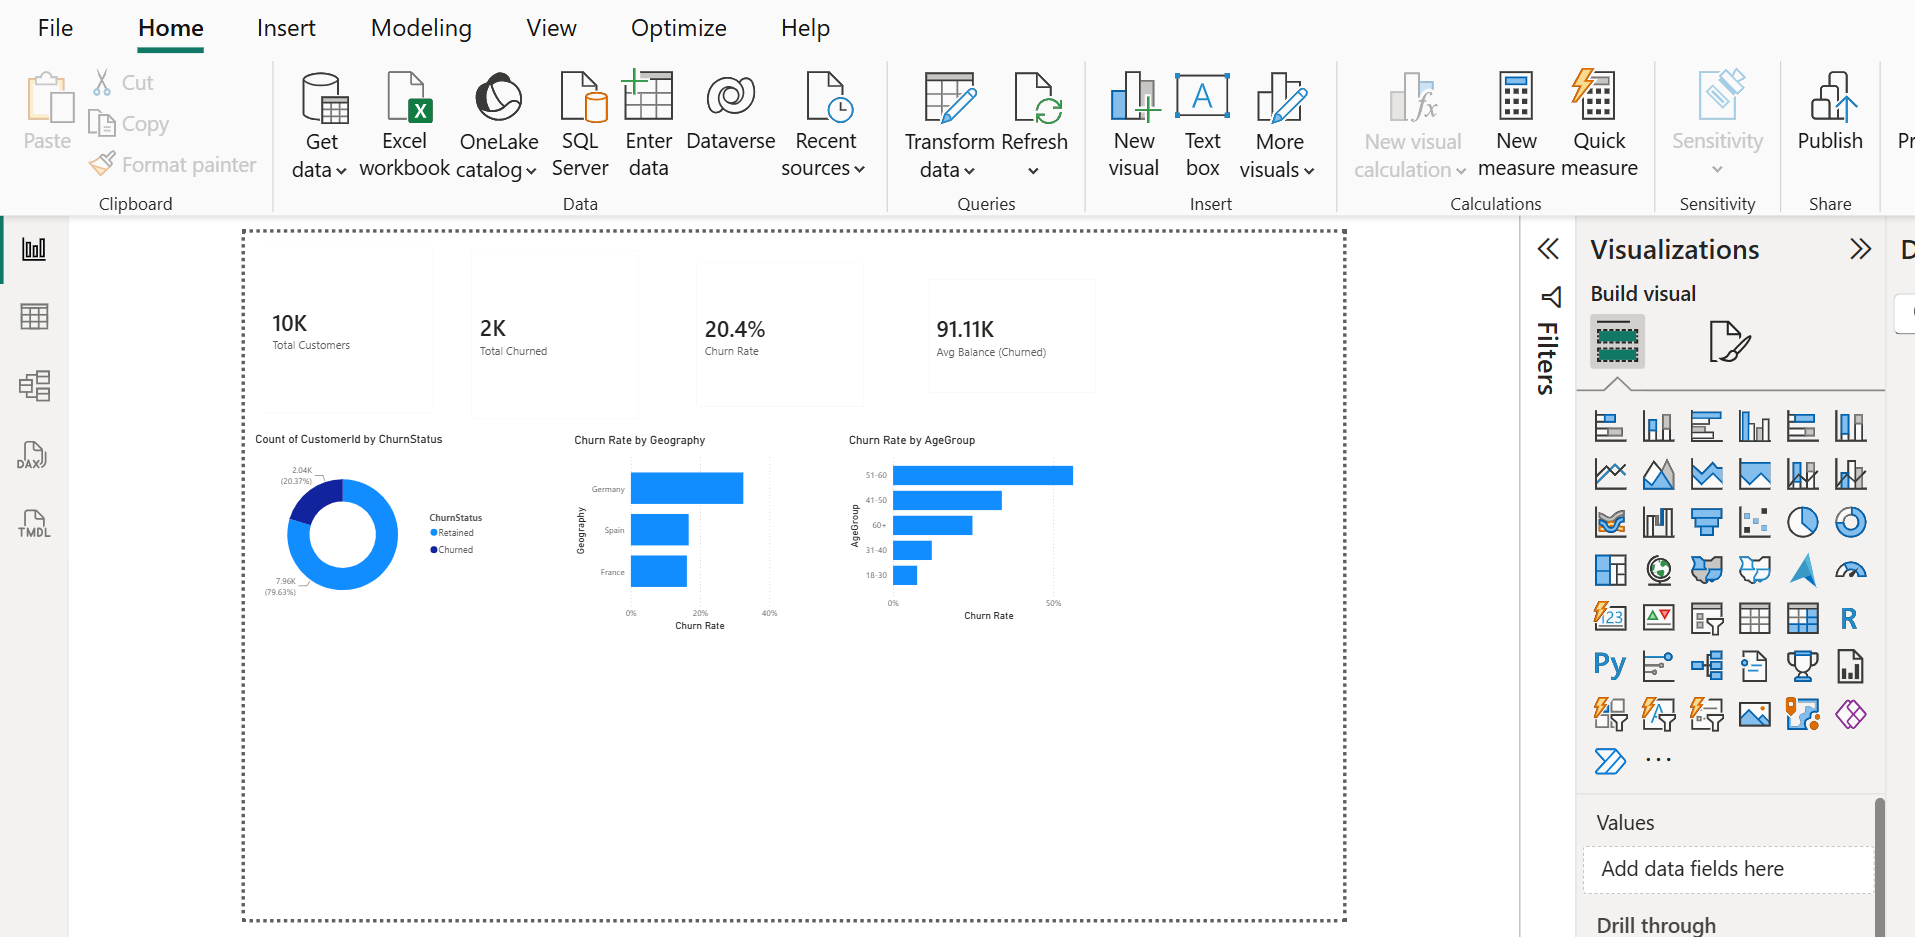

Layout of this report page (visuals, bound fields, positions):
{"tool":"powerbi","page":{"name":"Executive Overview","canvas":[1280,720],"ordinal":0},"visuals":[{"type":"cardVisual","fields":{"Data":["Bank_Churn.Total Customers"]},"box":[10,0,280,280],"z":0},{"type":"cardVisual","fields":{"Data":["Bank_Churn.Total Churned"]},"box":[311.8,7.6,279.7,281.6],"z":1000},{"type":"cardVisual","fields":{"Data":["Bank_Churn.Churn Rate"]},"box":[640.6,28.3,279.7,243.8],"z":2000},{"type":"cardVisual","fields":{"Data":["Bank_Churn.Avg Balance (Churned)"]},"box":[977,49.1,279.7,200.3],"z":3000},{"type":"donutChart","fields":{"Category":["Bank_Churn.ChurnStatus"],"Y":["CountNonNull(Bank_Churn.CustomerId)"]},"box":[10,290,358,280],"z":4000},{"type":"clusteredBarChart","fields":{"Category":["Bank_Churn.Geography"],"Y":["Bank_Churn.Churn Rate"]},"box":[474,292,306,292],"z":5000},{"type":"clusteredBarChart","fields":{"Category":["Bank_Churn.AgeGroup"],"Y":["Bank_Churn.Churn Rate"]},"box":[874,292,366,278],"z":6000}]}

Visuals, with their boxes on the page's 1280x720 design canvas (x1, y1, x2, y2). These are canvas units, not pixel positions in the 1915x937 screenshot, which may show the page scaled, cropped or inside an application window:
cardVisual - Bank_Churn.Total Customers: bbox=(10, 0, 290, 280)
cardVisual - Bank_Churn.Total Churned: bbox=(312, 8, 592, 289)
cardVisual - Bank_Churn.Churn Rate: bbox=(641, 28, 920, 272)
cardVisual - Bank_Churn.Avg Balance (Churned): bbox=(977, 49, 1257, 249)
donutChart - Bank_Churn.ChurnStatus x CountNonNull(Bank_Churn.CustomerId): bbox=(10, 290, 368, 570)
clusteredBarChart - Bank_Churn.Geography x Bank_Churn.Churn Rate: bbox=(474, 292, 780, 584)
clusteredBarChart - Bank_Churn.AgeGroup x Bank_Churn.Churn Rate: bbox=(874, 292, 1240, 570)
